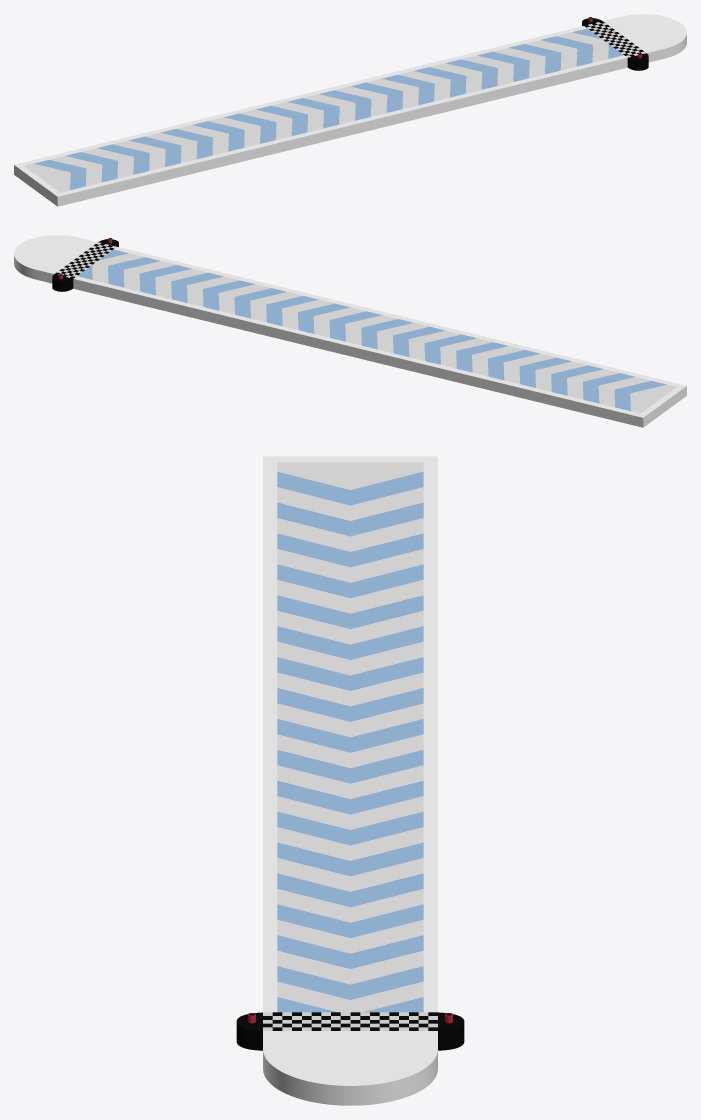
File: Platforms.fbx
3 renders of one model, top to bottom at view 1: azimuth 30°, elevation 25°; view 2: azimuth 150°, elevation 25°; view 3: azimuth 270°, elevation 25°, orthographic. The views are drawn at different scales.
Visible parts, largest first — view 1: start, mid, end, Flag after, Flag; view 2: start, mid, end, Flag after, Flag; view 3: start, mid, end, Flag after, Flag.
Boxes of the visible parts, left/top/right/bottom form: start: left=14, top=118, right=247, bottom=206; mid: left=204, top=72, right=437, bottom=160; end: left=394, top=26, right=627, bottom=113; Flag after: left=603, top=14, right=686, bottom=62; Flag: left=582, top=17, right=648, bottom=70; start: left=453, top=339, right=686, bottom=427; mid: left=263, top=293, right=496, bottom=381; end: left=73, top=247, right=306, bottom=334; Flag after: left=14, top=235, right=97, bottom=283; Flag: left=52, top=238, right=118, bottom=291; start: left=263, top=456, right=437, bottom=659; mid: left=263, top=641, right=437, bottom=845; end: left=263, top=827, right=437, bottom=1012; Flag after: left=263, top=1031, right=437, bottom=1105; Flag: left=236, top=1012, right=464, bottom=1050.
Size of the model in its own units: 34.03 by 0.6802 by 5.2.
